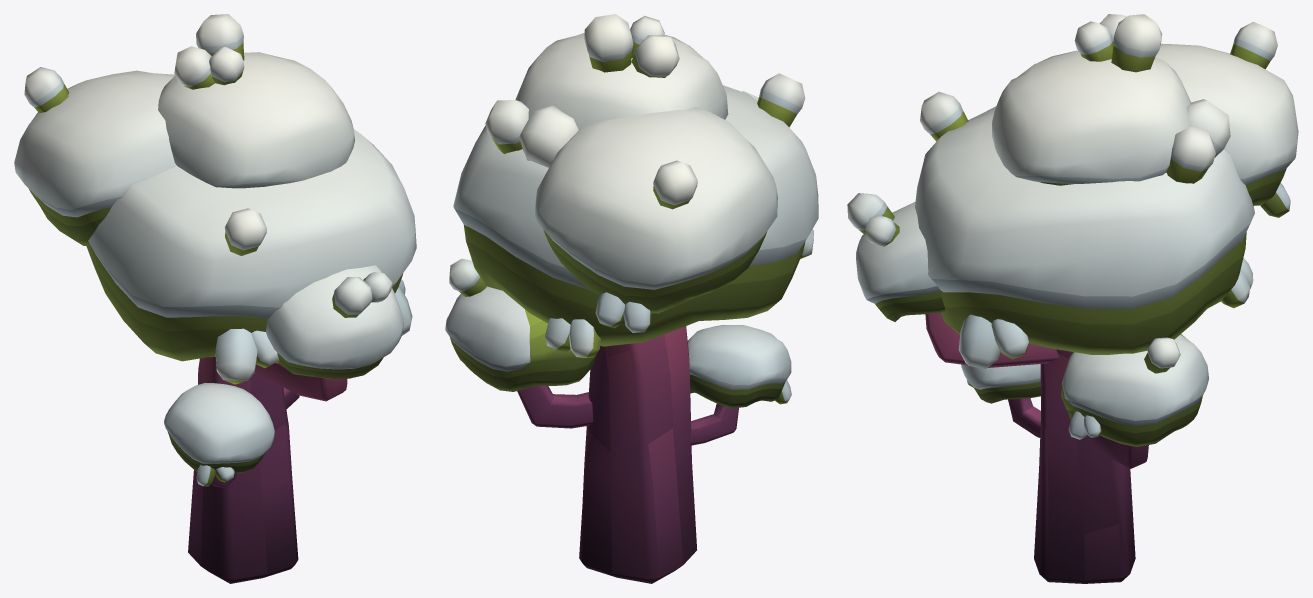
The model's file is grassland_tree_col1_5_snow.fbx.
The picture shows the model from 3 angles, left to right: view 1: azimuth 30°, elevation 25°; view 2: azimuth 150°, elevation 25°; view 3: azimuth 270°, elevation 25°; orthographic projection. The views are drawn at different scales.
Parts seen in each view (by area): view 1: grassland_tree_col1_5_snow; view 2: grassland_tree_col1_5_snow; view 3: grassland_tree_col1_5_snow.
Boxes of the visible parts, bbox=[...] form: grassland_tree_col1_5_snow: bbox=[14, 14, 416, 583]; grassland_tree_col1_5_snow: bbox=[445, 14, 818, 583]; grassland_tree_col1_5_snow: bbox=[847, 14, 1298, 583].
Bounding box in the file's own units: 540 × 917 × 681.
